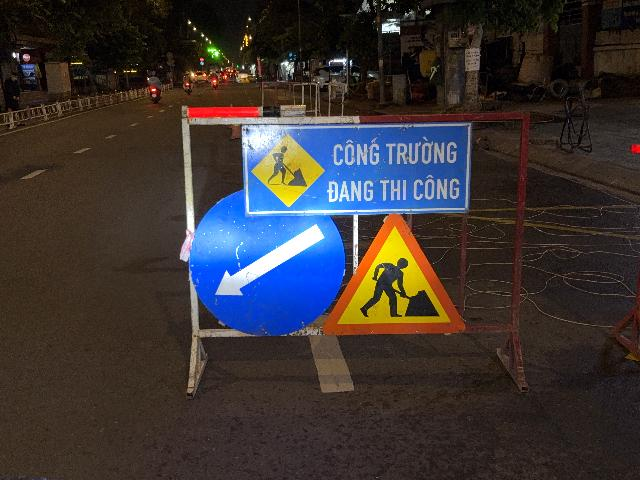cong-truong-dang-thi-cong: (323, 213, 464, 335)
huong-phai-di-vong-chuong-ngai-vat: (188, 188, 345, 336)
